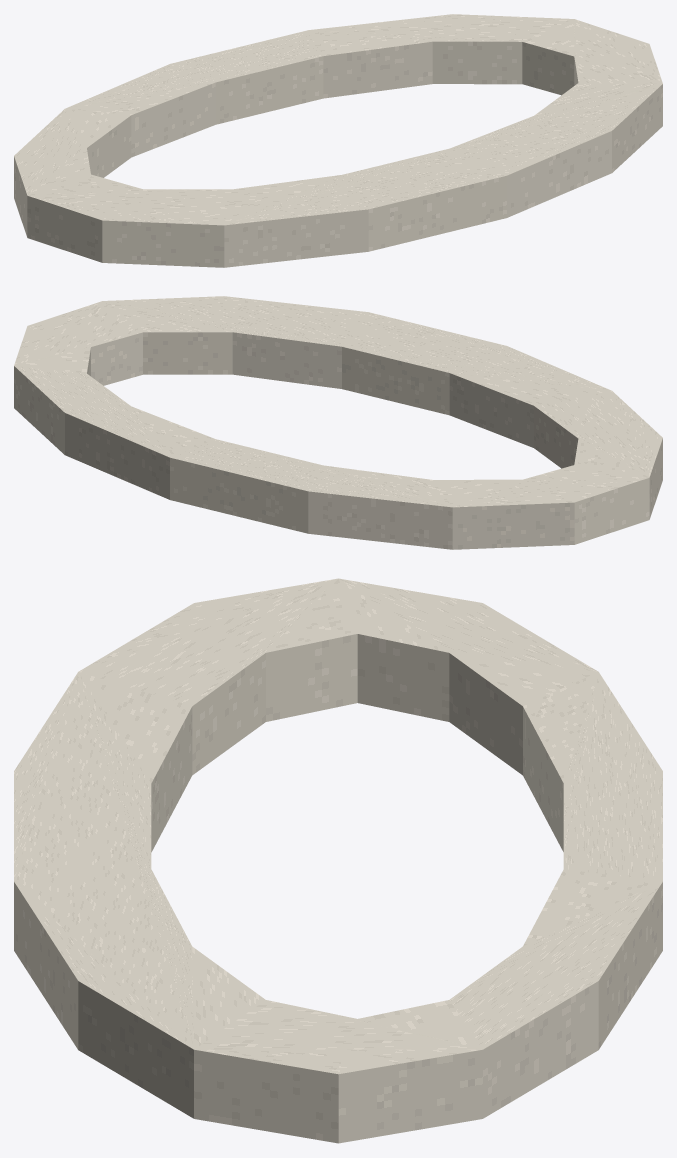
File: priest_collar.glb
3 views of the same model, one above another, from view 1: azimuth 30°, elevation 25°; view 2: azimuth 150°, elevation 25°; view 3: azimuth 270°, elevation 25° (orthographic). The views are drawn at different scales.
Parts seen in each view (by area): view 1: block_white detached collar; view 2: block_white detached collar; view 3: block_white detached collar.
Part boxes in pixels (box(x1,y1,x2,y2)): block_white detached collar: box(14, 14, 662, 267); block_white detached collar: box(14, 296, 662, 549); block_white detached collar: box(14, 578, 662, 1143).
Bounding box in the file's own units: 0.129 × 0.0084 × 0.0714.
1 material, 1 textured.
